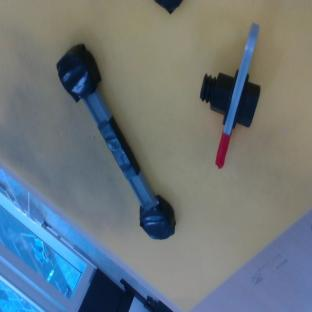part_1_good: (189, 18, 269, 173)
part_3_bad: (49, 40, 184, 248)
